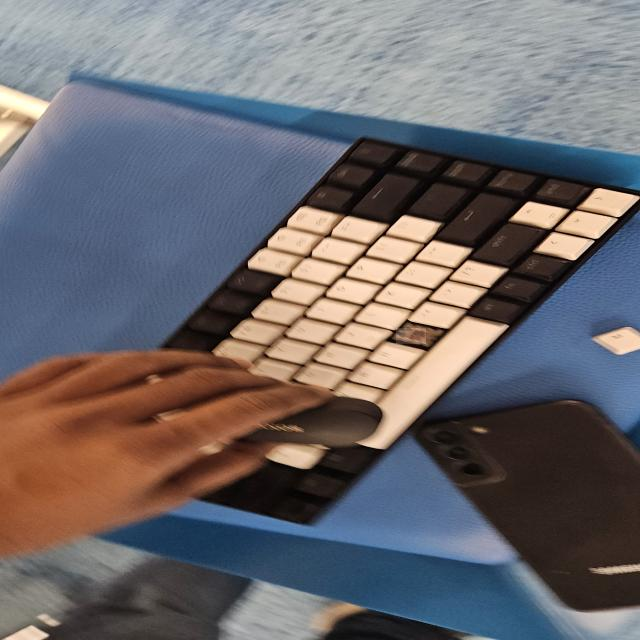C: (396, 328, 426, 344)
